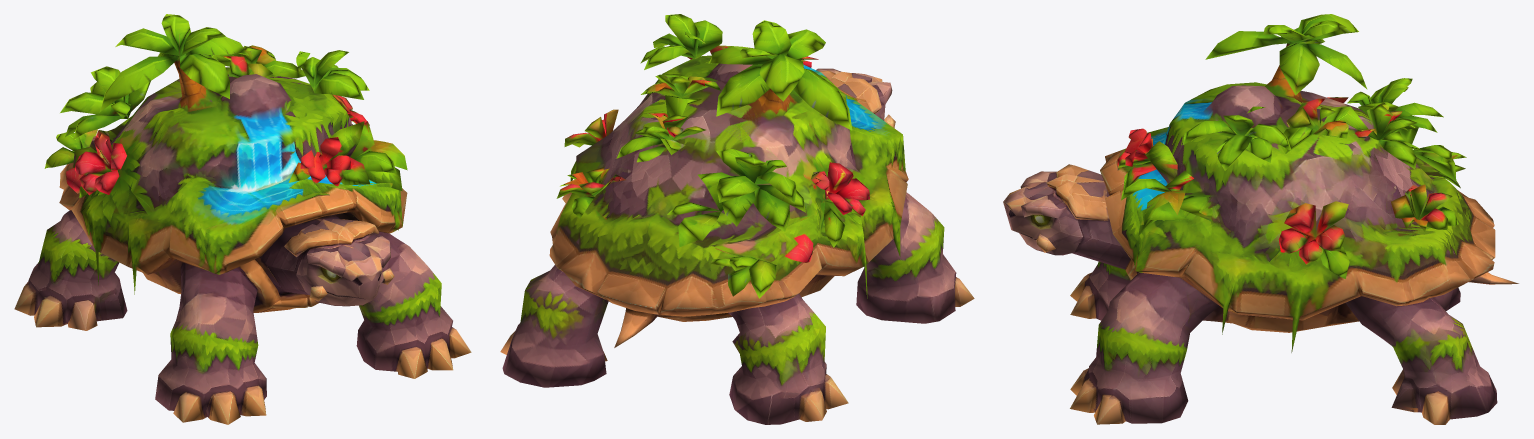
The model's file is creature_tortoise_island_forge.glb.
3 renders of one model, left to right at view 1: azimuth 30°, elevation 25°; view 2: azimuth 150°, elevation 25°; view 3: azimuth 270°, elevation 25°, orthographic. The views are drawn at different scales.
Bounding box in the file's own units: 0.6689 × 0.6367 × 0.9575.
1 material, 1 textured.
